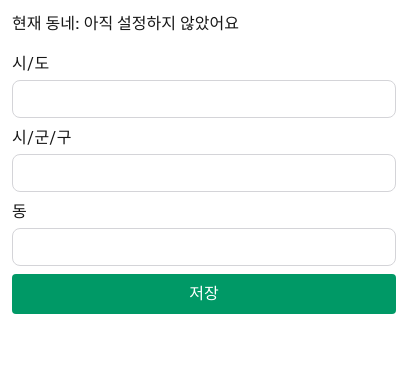
Test: LocationSettings › posts sido/sigungu/dong to /api/auth/location and shows the returned region (never a coordinate)
In the field labelled "시/도": (204, 99) [12, 80, 396, 118], type "서울"
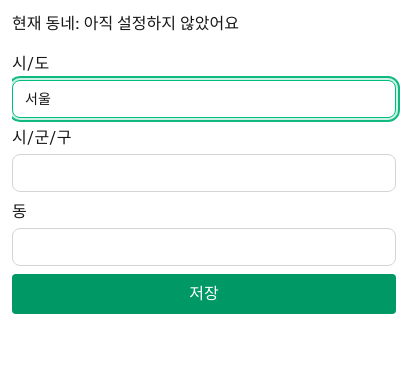
In the field labelled "시/군/구": (204, 173) [12, 154, 396, 192], type "강남구"
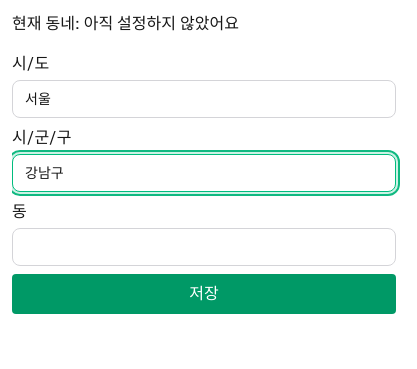
In the field labelled "동": (204, 247) [12, 228, 396, 266], type "역삼동"
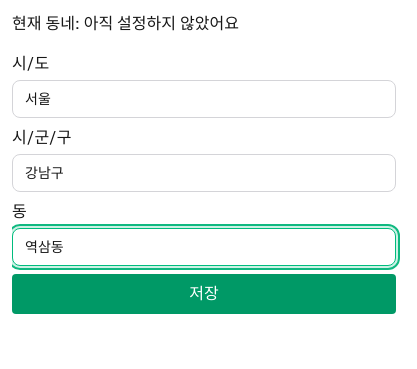
Click the button "저장": (204, 294) [12, 274, 396, 314]
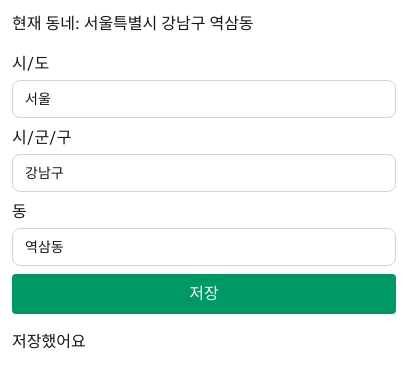
Result: the text "저장했어요" is shown at [12, 331, 86, 352]
Result: the text "현재 동네: 서울특별시 강남구 역삼동" is shown at [12, 13, 254, 34]
